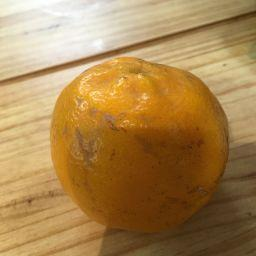Ripe: (49, 56, 233, 233)
